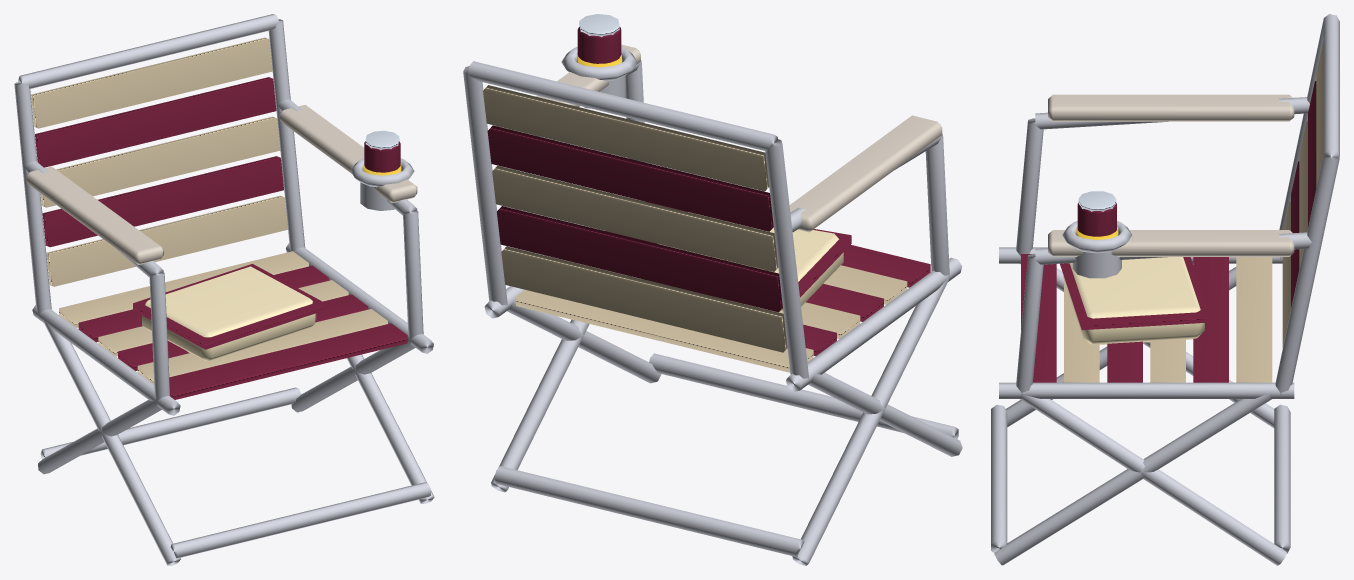
Rendered from beach_chair.glb.
The picture shows the model from 3 angles, left to right: view 1: azimuth 30°, elevation 25°; view 2: azimuth 150°, elevation 25°; view 3: azimuth 270°, elevation 25°; orthographic projection. The views are drawn at different scales.
Visible parts, largest first — view 1: Chair; view 2: Chair; view 3: Chair.
Boxes of the visible parts, x1,y1,x2,y2 form: Chair: (14,14,434,565); Chair: (463,14,962,565); Chair: (991,14,1339,565).
Bounding box in the file's own units: 0.607 × 0.7452 × 0.5666.
